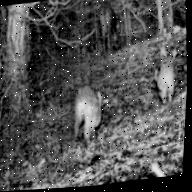boar: (56, 58, 114, 154), (137, 41, 189, 129)
